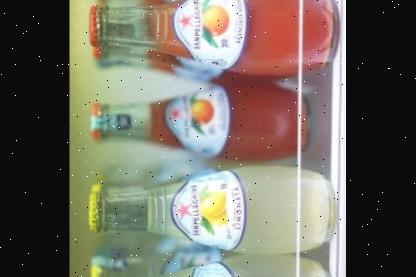Others: (84, 158, 338, 257), (86, 0, 341, 78), (92, 81, 298, 158), (85, 253, 333, 277)
